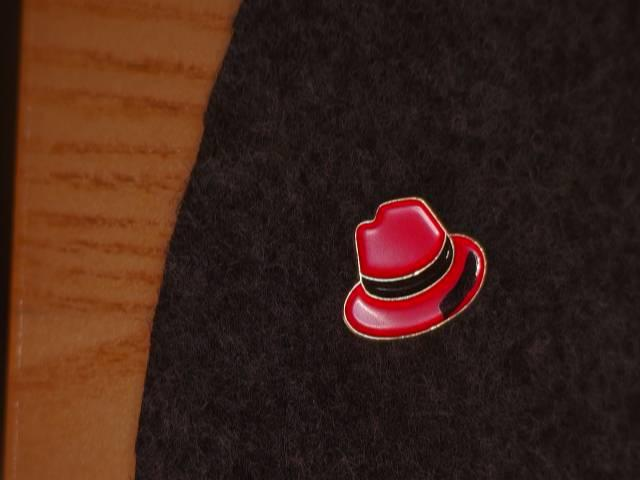Red-Hat: (324, 181, 519, 371)
Scratch: (437, 246, 512, 342)
